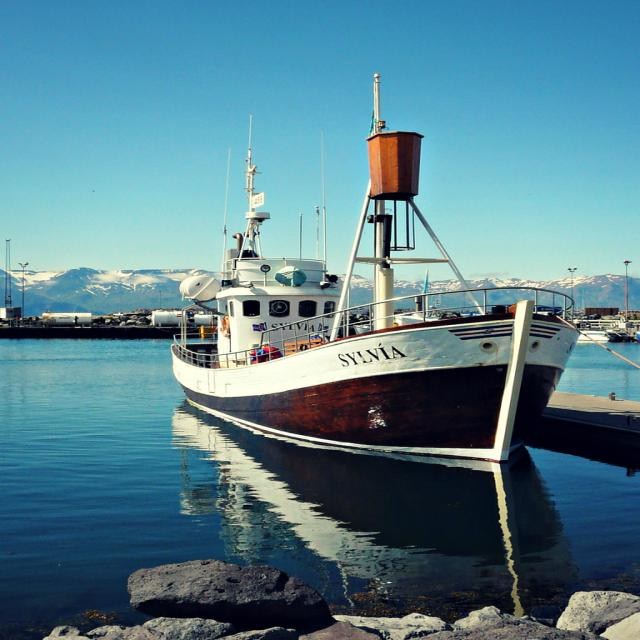Boat: (164, 70, 584, 466), (351, 267, 480, 335)
